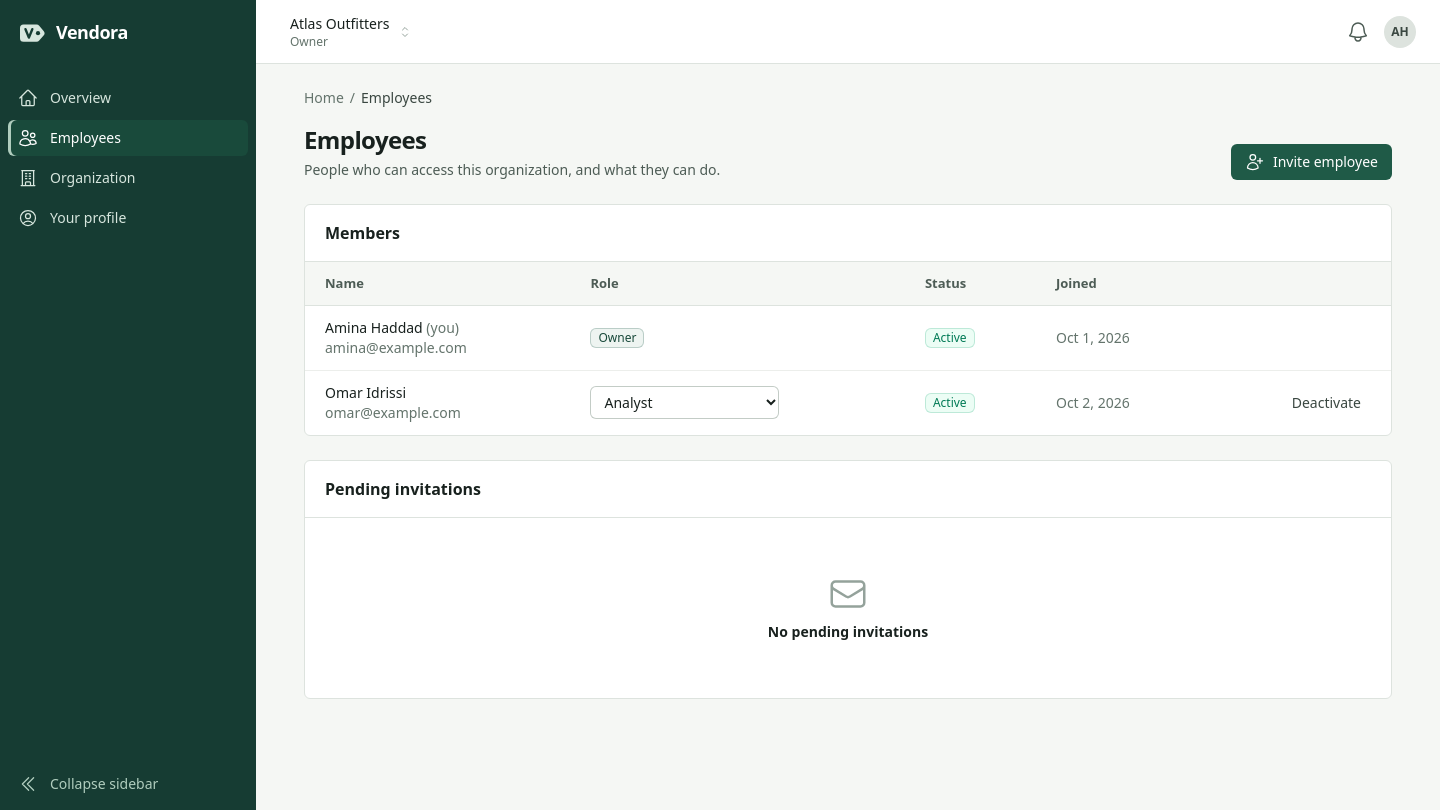
EmployeesPage › deactivating asks for confirmation first
The image size is (1440, 810).
Click the button with aria-label "Deactivate Omar Idrissi".
click(1326, 403)  # box x1=1282 y1=387 x2=1371 y2=419
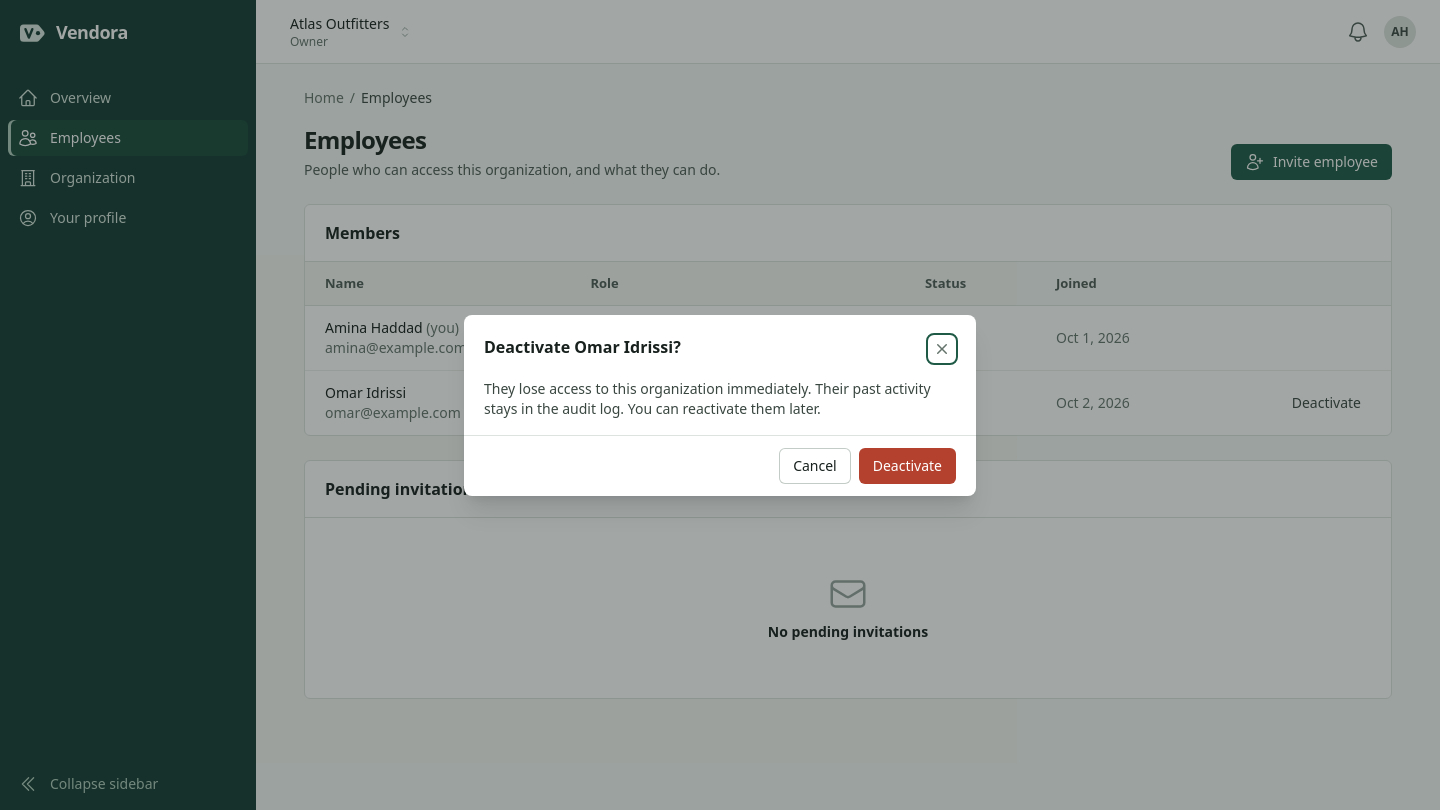
Click the button "Deactivate".
click(907, 466)  # box x1=859 y1=448 x2=956 y2=484
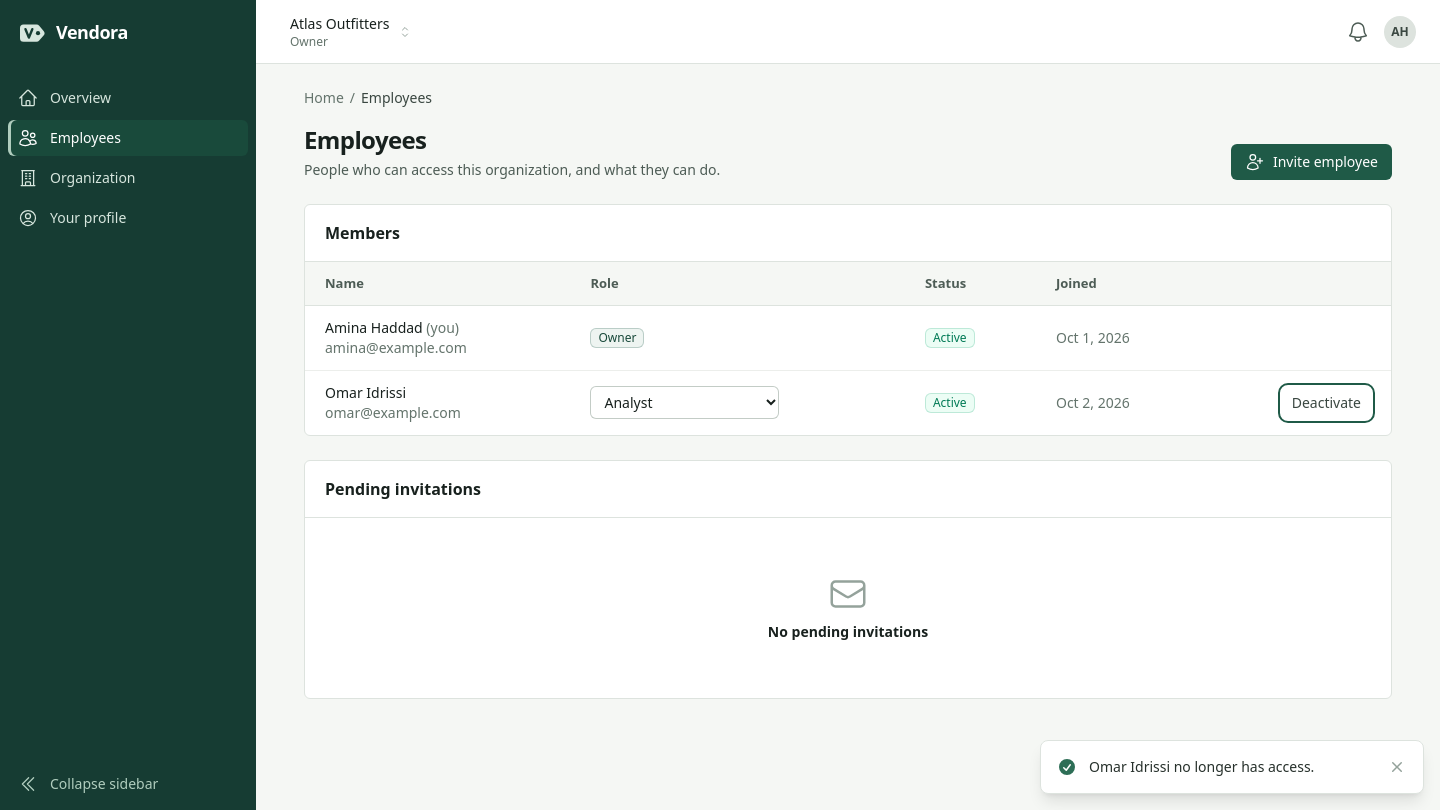
Now the text "Omar Idrissi no longer has access." is shown, box x1=1089 y1=757 x2=1314 y2=776
